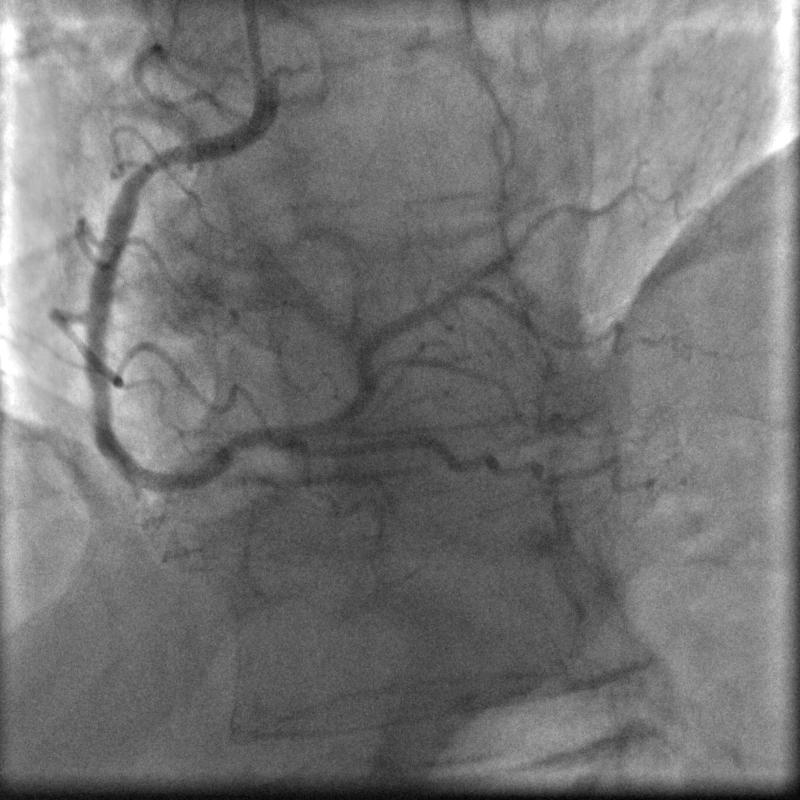Stenosis: (128, 145, 176, 187)
